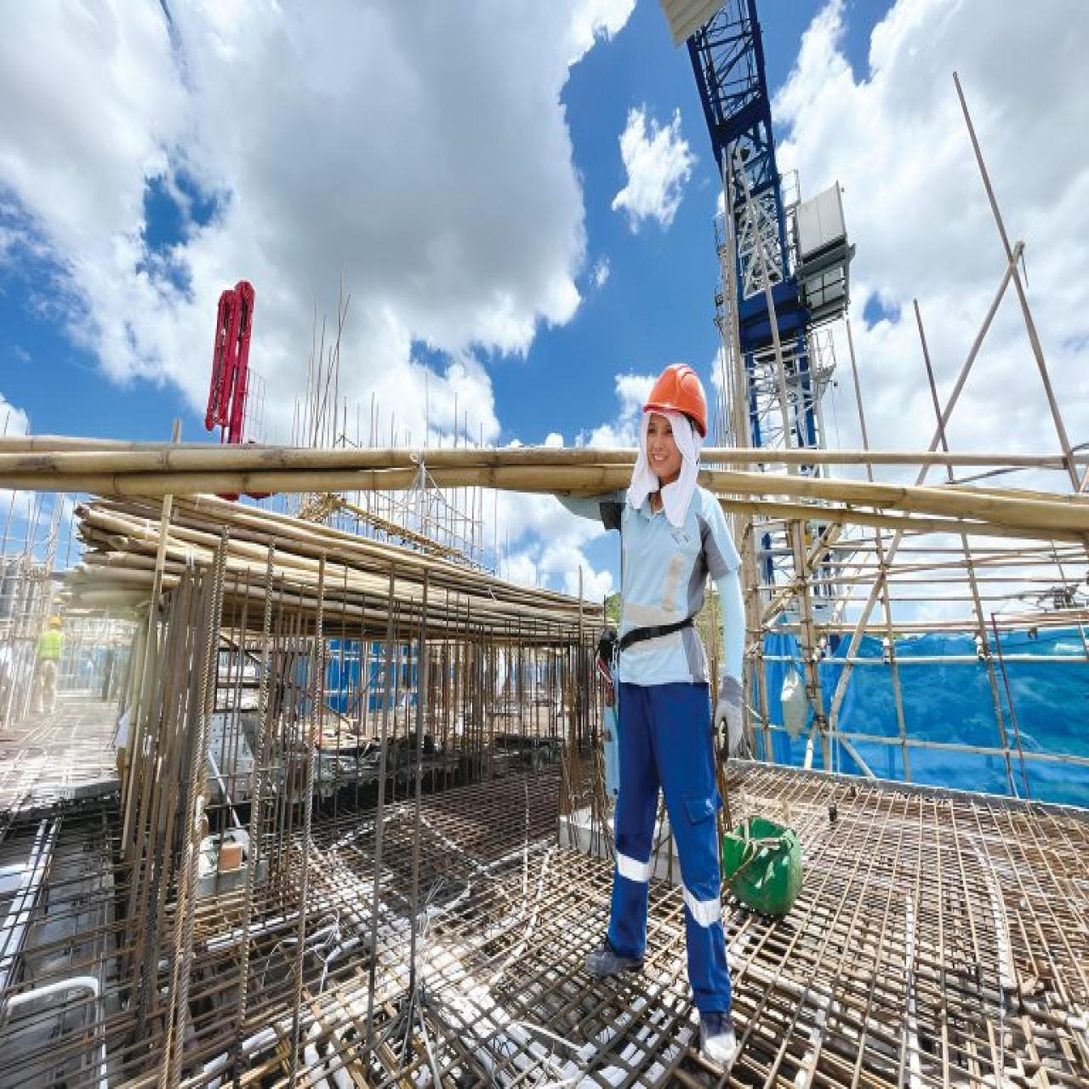NO_Safety_Vest: (603, 474, 739, 691)
Person: (543, 335, 780, 1084)
